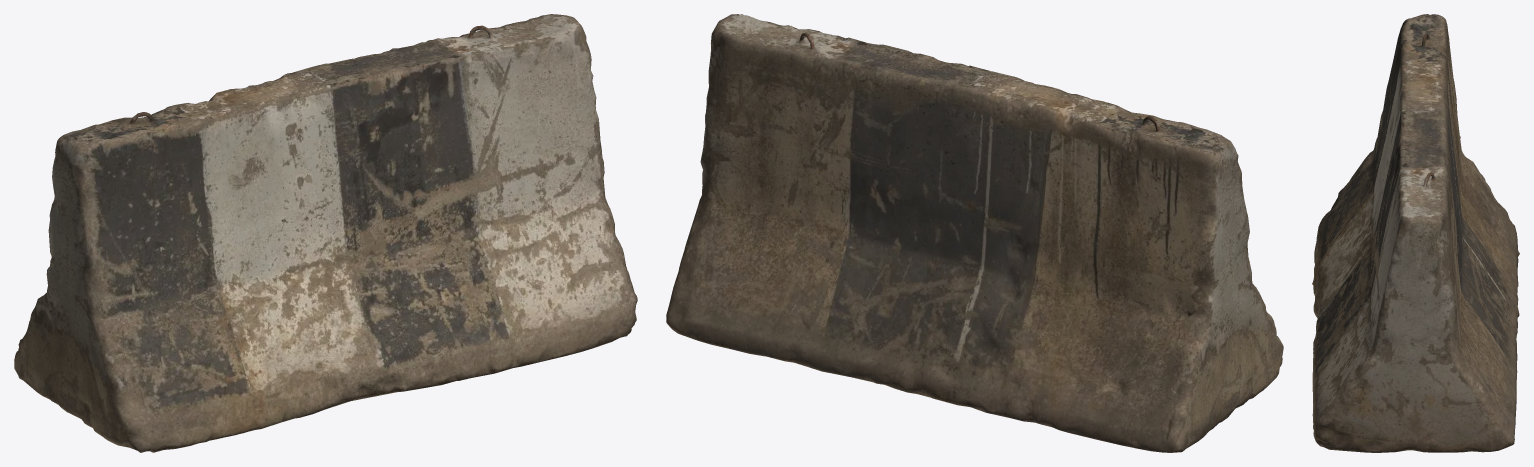
The model's file is concrete-road-barrier.glb.
3 views of the same model, side by side, from view 1: azimuth 30°, elevation 25°; view 2: azimuth 150°, elevation 25°; view 3: azimuth 270°, elevation 25° (orthographic). The views are drawn at different scales.
Visible parts, largest first — view 1: concrete_road_barrier; view 2: concrete_road_barrier; view 3: concrete_road_barrier.
Boxes of the visible parts, x1=… form: concrete_road_barrier: x1=14, y1=14, x2=637, y2=452; concrete_road_barrier: x1=666, y1=14, x2=1283, y2=452; concrete_road_barrier: x1=1312, y1=14, x2=1519, y2=452.
Bounding box in the file's own units: 1.54 × 0.8301 × 0.6386.
1 material, 1 textured.
